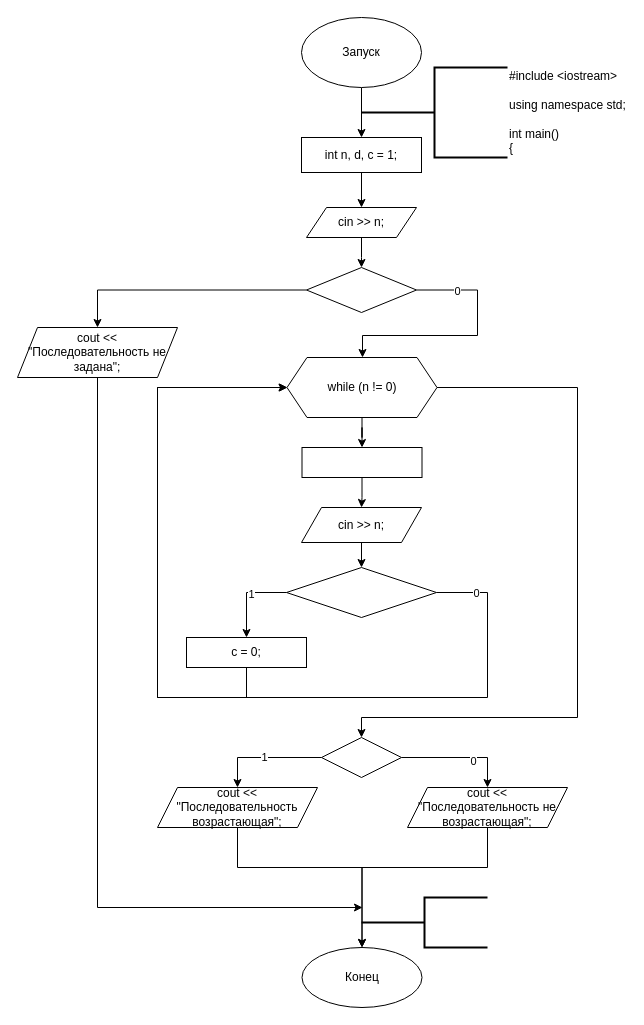
Some shapes in this 644 by 1025 pixel diagram are drawn without their labels. The centre of each missing label's shape, as x and y in pixels:
"d = n;" belongs at pixel 361 462.
"if ((n<=d) and (n != 0))" belongs at pixel 361 592.
"if (c == 1)" belongs at pixel 361 757.
"if (n == 0)" belongs at pixel 361 289.
"return 0; }" belongs at pixel 424 922.
